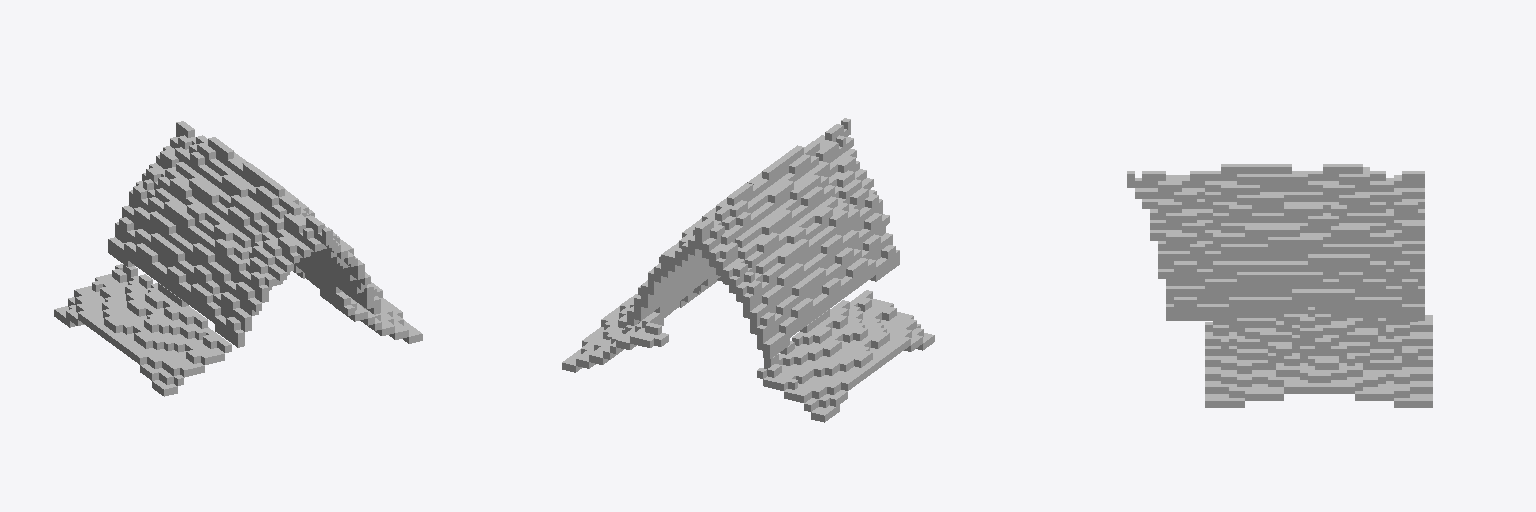
File: Farm House-5.obj
3 views of the same model, side by side, from view 1: azimuth 30°, elevation 25°; view 2: azimuth 150°, elevation 25°; view 3: azimuth 270°, elevation 25° (orthographic).
Parts seen in each view (by area): view 1: object 1; view 2: object 1; view 3: object 1.
Part boxes in pixels (bbox=[...]): object 1: bbox=[54, 121, 422, 396]; object 1: bbox=[562, 118, 934, 422]; object 1: bbox=[1127, 164, 1432, 407].
Size of the model in its own units: 3.8 by 2.5 by 3.9.